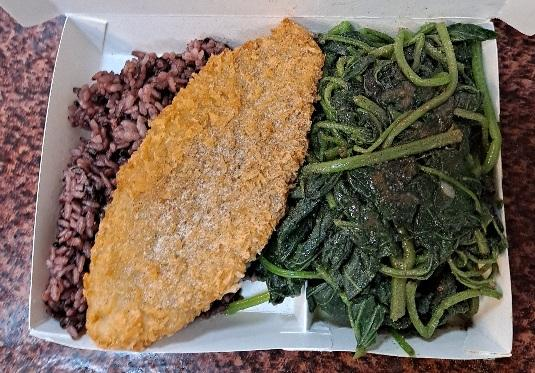big grilled chicken leg: (4, 9, 524, 372)
braised fish: (45, 43, 294, 330)
braised fish fillet: (314, 18, 493, 343)
braised pork: (110, 15, 315, 344)
